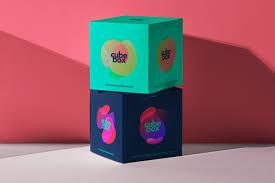cube: (89, 15, 182, 94), (90, 90, 182, 164)
